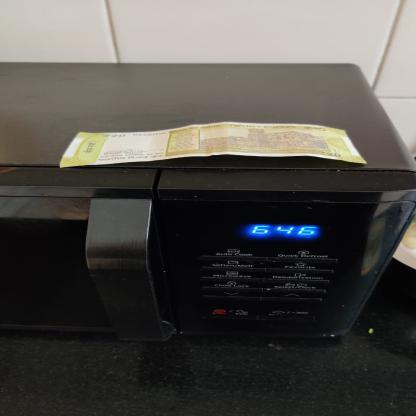New20Back: (58, 122, 367, 167)
